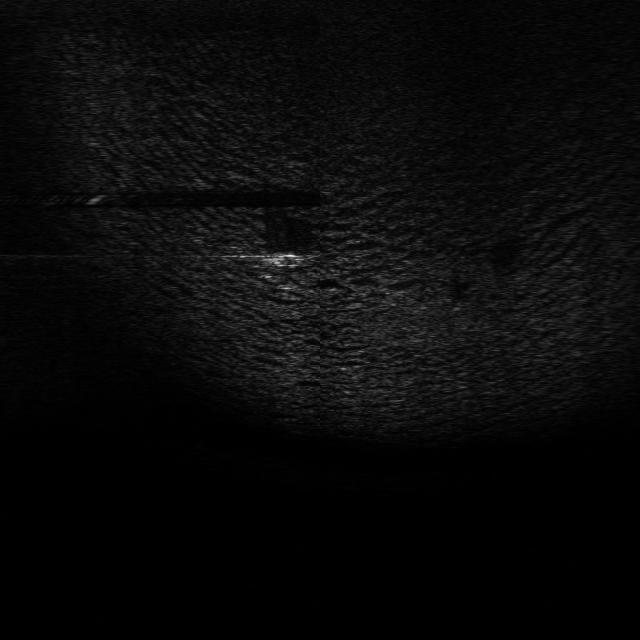plane: (262, 247, 317, 269)
